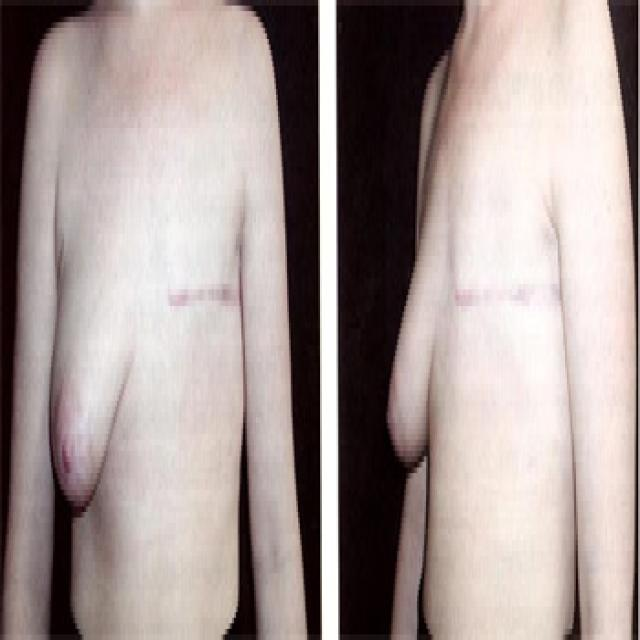Seno herido: (452, 183, 564, 405), (154, 190, 247, 420)
Seno ileso: (46, 205, 140, 541), (383, 195, 449, 491)
